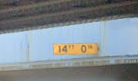0: (79, 44, 88, 54)
1: (57, 44, 61, 53)
4: (61, 45, 68, 54)
overheadsign: (53, 43, 98, 55)
